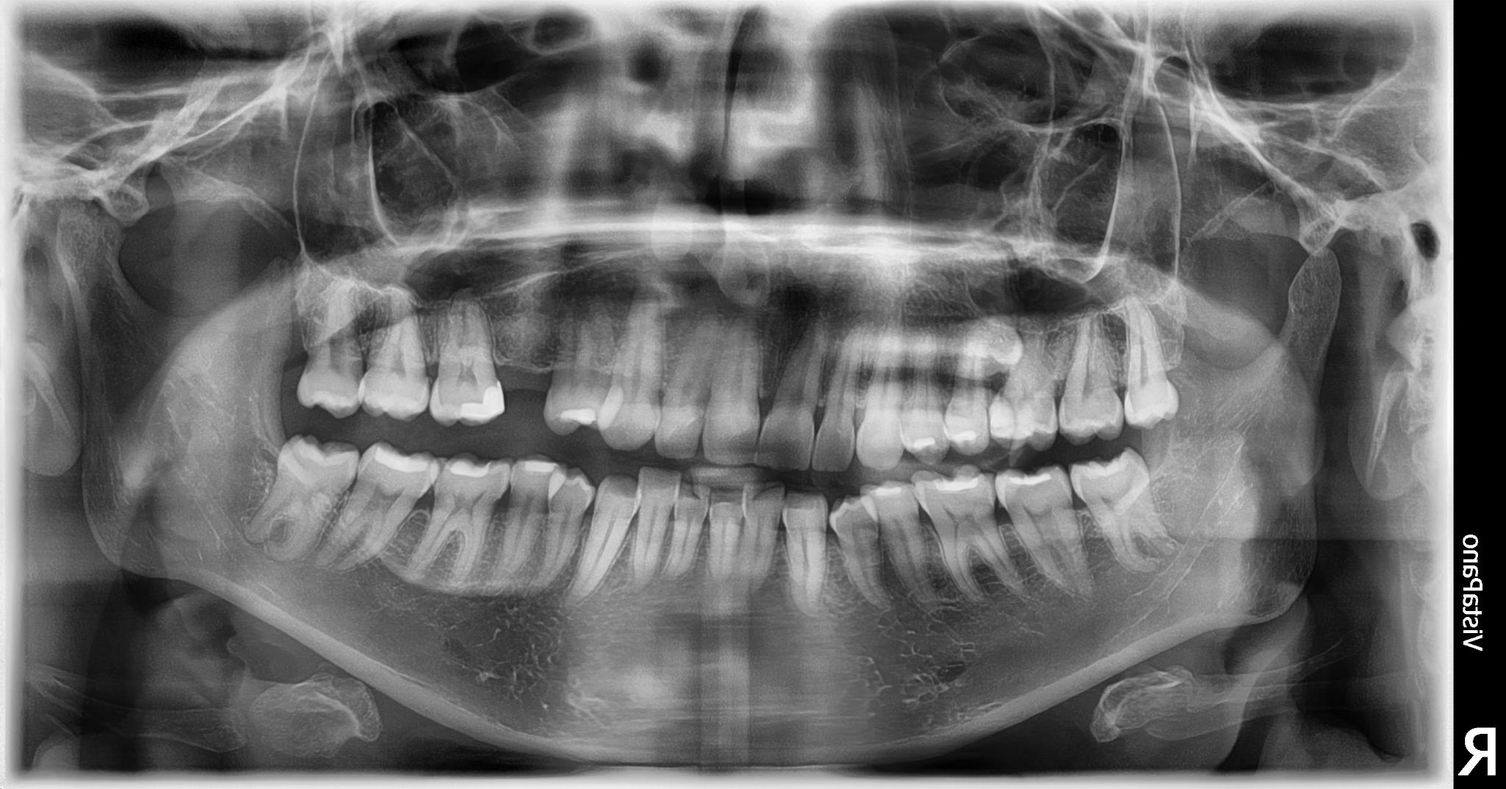Premolars: (258, 208, 745, 505)
